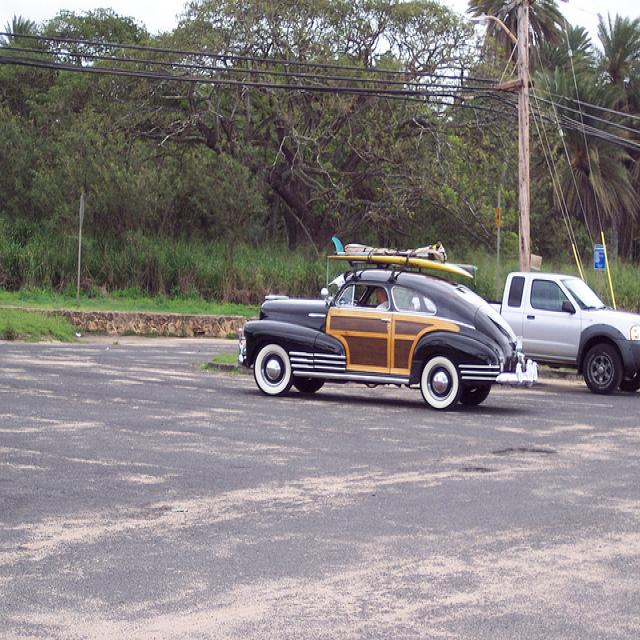Vehicle: (240, 243, 533, 409), (486, 270, 640, 402)
